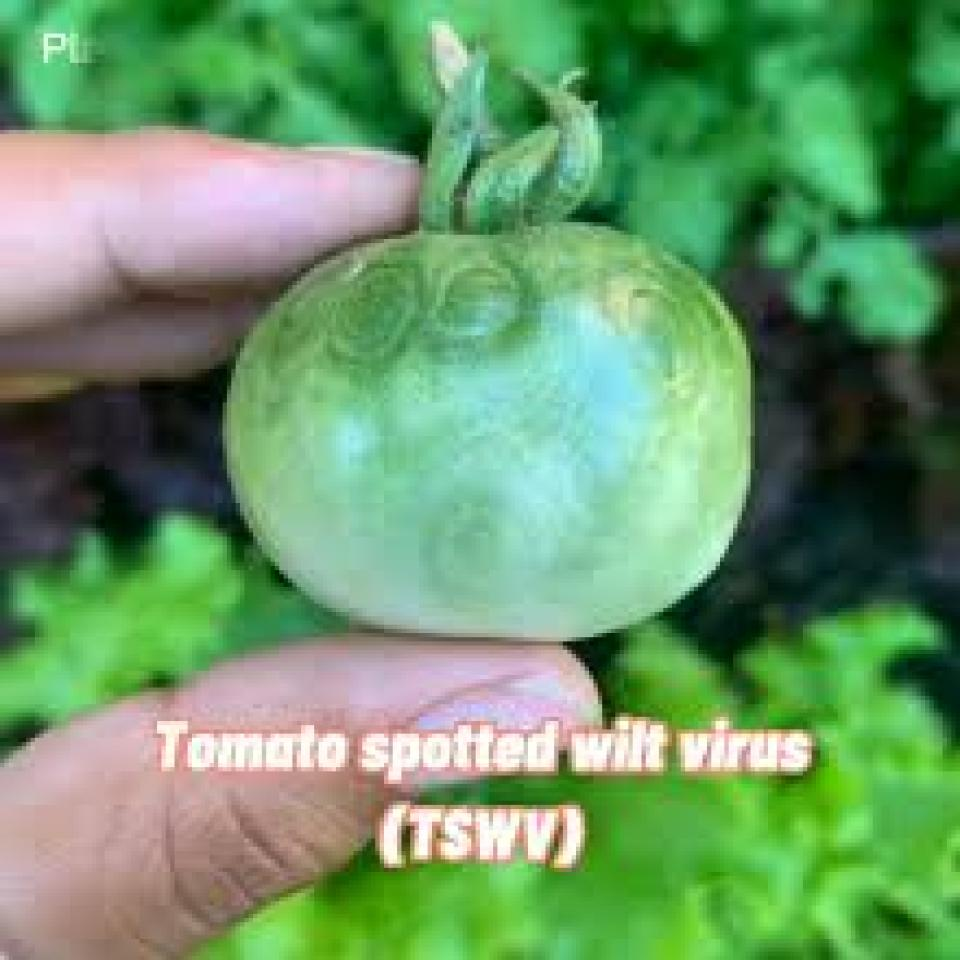Spotted wilt Virus: (223, 216, 762, 643)
